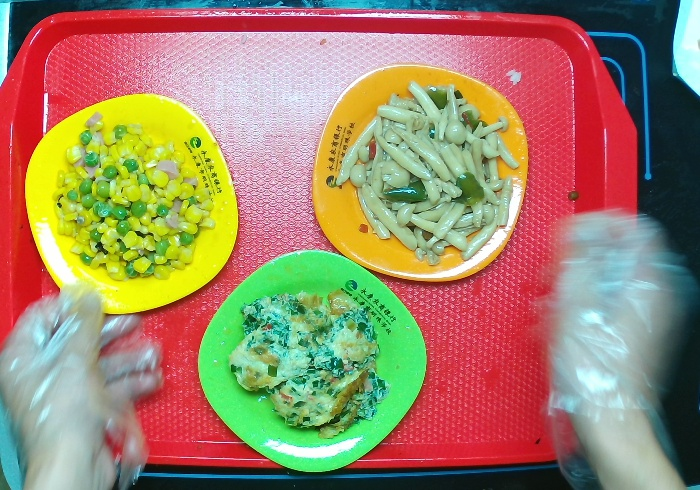YKMZ-Huang_Se_Fang_Die: (20, 89, 247, 317)
YKMZ-Ju_Se_Fang_Die: (305, 63, 532, 279)
YKMZ-Lv_Se_Fang_Die: (195, 248, 430, 473)
